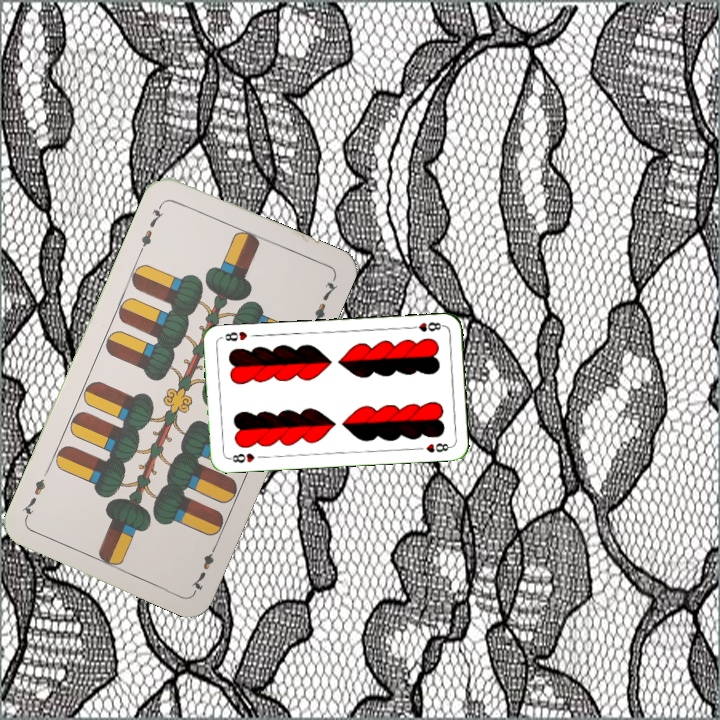E7: (187, 538, 221, 594), (135, 199, 166, 255)
H8: (406, 318, 446, 334), (224, 449, 257, 466)
